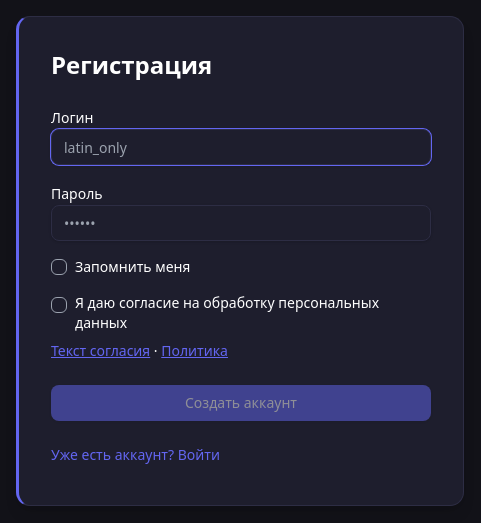
Test: requires an unchecked separate consent before registering
Check: the button "Создать аккаунт" is disabled, box [51,385,431,421]
Click the checkbox labelled "Я даю согласие на обработку персональных данных": (59, 305) [51,297,67,313]
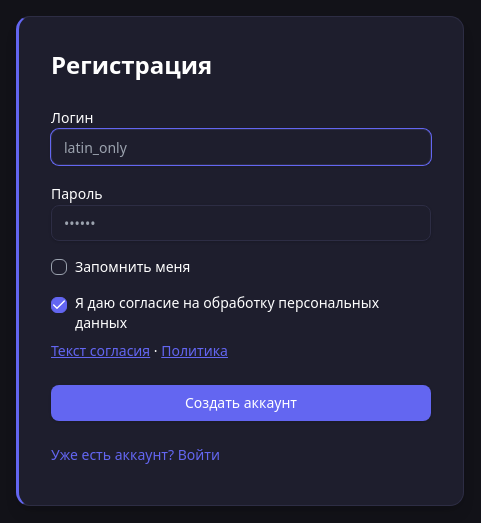
Check: the button "Создать аккаунт" is enabled, box [51,385,431,421]
